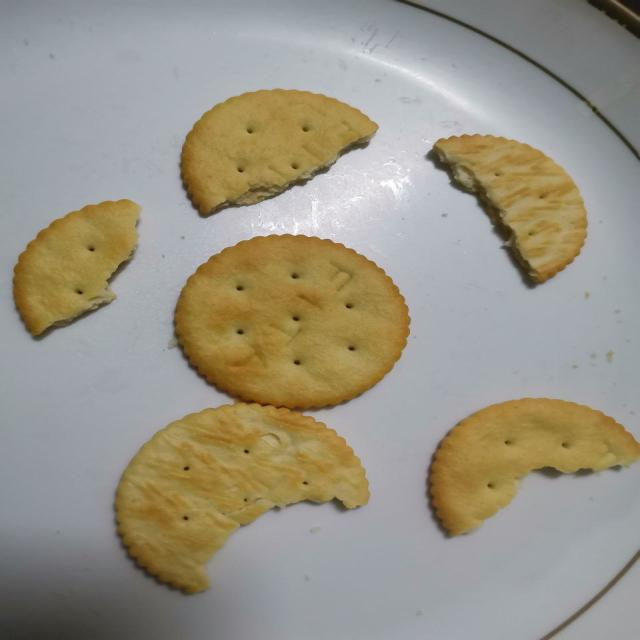broken biscuit: (112, 401, 371, 595), (425, 396, 638, 538), (178, 86, 380, 216), (431, 131, 588, 285), (11, 197, 142, 337)
intact biscuit: (172, 232, 412, 409)
